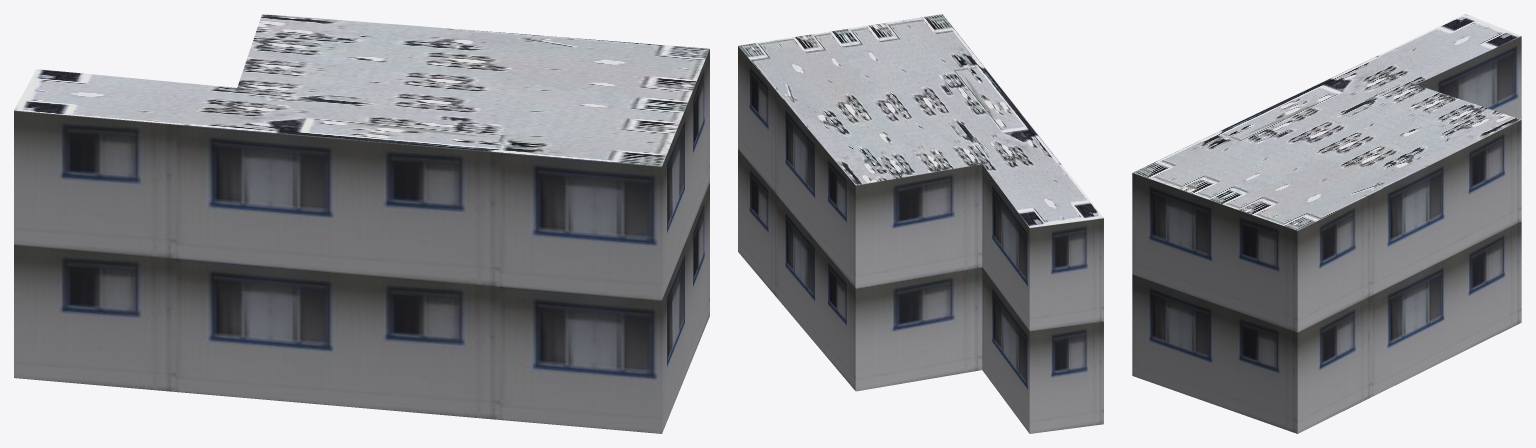
The model's file is ResTex__4946.fbx.
The picture shows the model from 3 angles, left to right: view 1: azimuth 30°, elevation 25°; view 2: azimuth 150°, elevation 25°; view 3: azimuth 270°, elevation 25°; orthographic projection. The views are drawn at different scales.
Parts seen in each view (by area): view 1: CityEngineMaterial_9_m, CityEngineMaterial_8_m; view 2: CityEngineMaterial_9_m, CityEngineMaterial_8_m; view 3: CityEngineMaterial_9_m, CityEngineMaterial_8_m.
Boxes of the visible parts, <box> form: CityEngineMaterial_9_m: <box>14,49,709,433</box>; CityEngineMaterial_8_m: <box>14,14,709,166</box>; CityEngineMaterial_9_m: <box>738,46,1103,433</box>; CityEngineMaterial_8_m: <box>738,14,1103,227</box>; CityEngineMaterial_9_m: <box>1132,36,1521,433</box>; CityEngineMaterial_8_m: <box>1132,14,1520,230</box>.
Bounding box in the file's own units: 13.74 × 6 × 10.42.
Materials: 2 (2 with a texture image).
